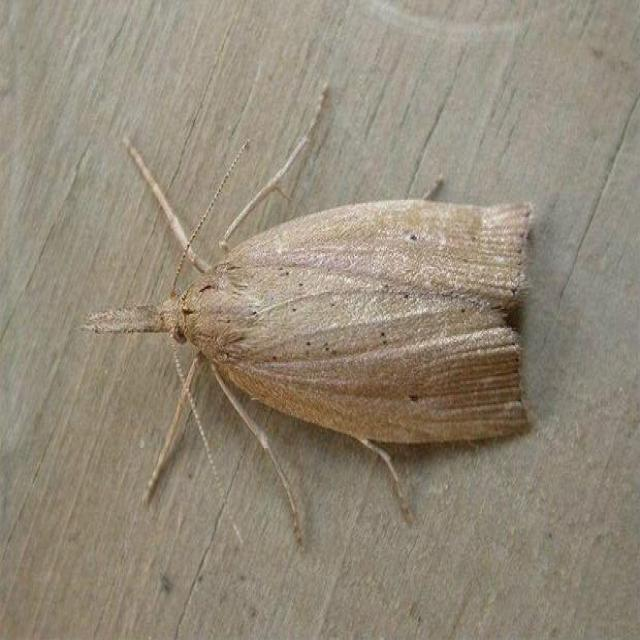yellow-stem-borer: (55, 100, 593, 570)
